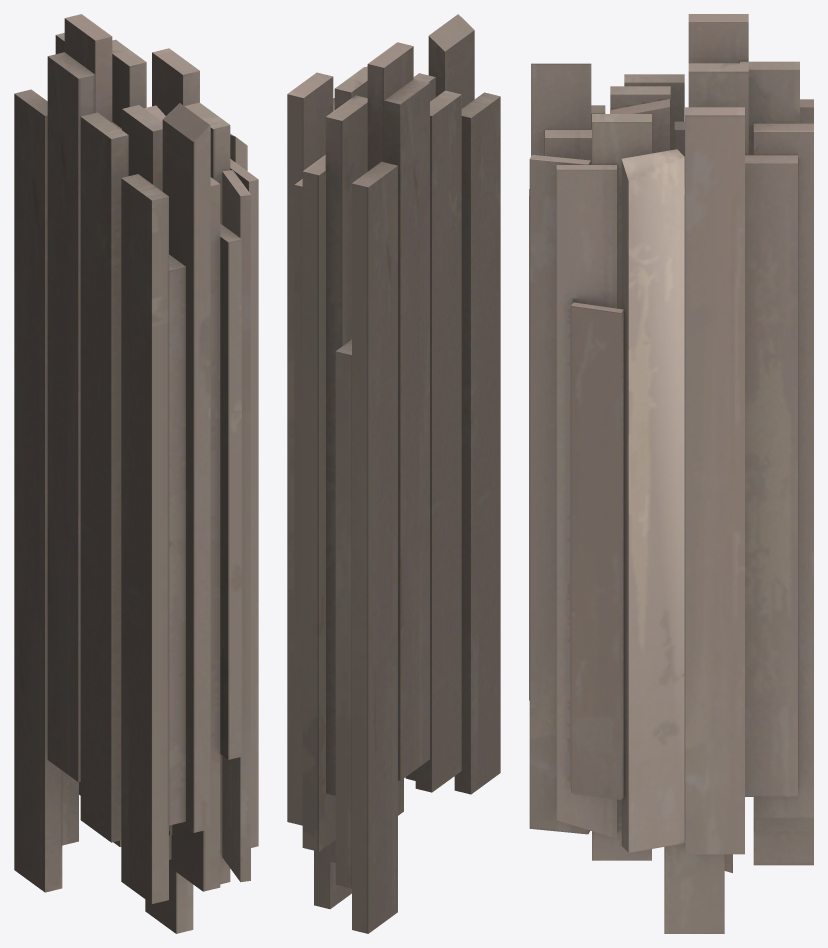
Rendered from props_farm_wood_pile.glb.
The picture shows the model from 3 angles, left to right: view 1: azimuth 30°, elevation 25°; view 2: azimuth 150°, elevation 25°; view 3: azimuth 270°, elevation 25°; orthographic projection. The views are drawn at different scales.
Visible parts, largest first — view 1: models/props_farm/wood_pile; view 2: models/props_farm/wood_pile; view 3: models/props_farm/wood_pile.
Boxes of the visible parts, x1,y1,x2,y2 form: models/props_farm/wood_pile: (14,14,258,933); models/props_farm/wood_pile: (287,14,500,933); models/props_farm/wood_pile: (529,14,813,933).
Bounding box in the file's own units: 27.99 × 174 × 51.05.
Materials: 1 (1 with a texture image).
